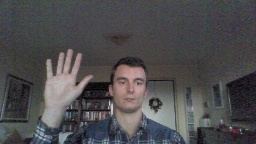Mano_aperta: (42, 48, 94, 108)
